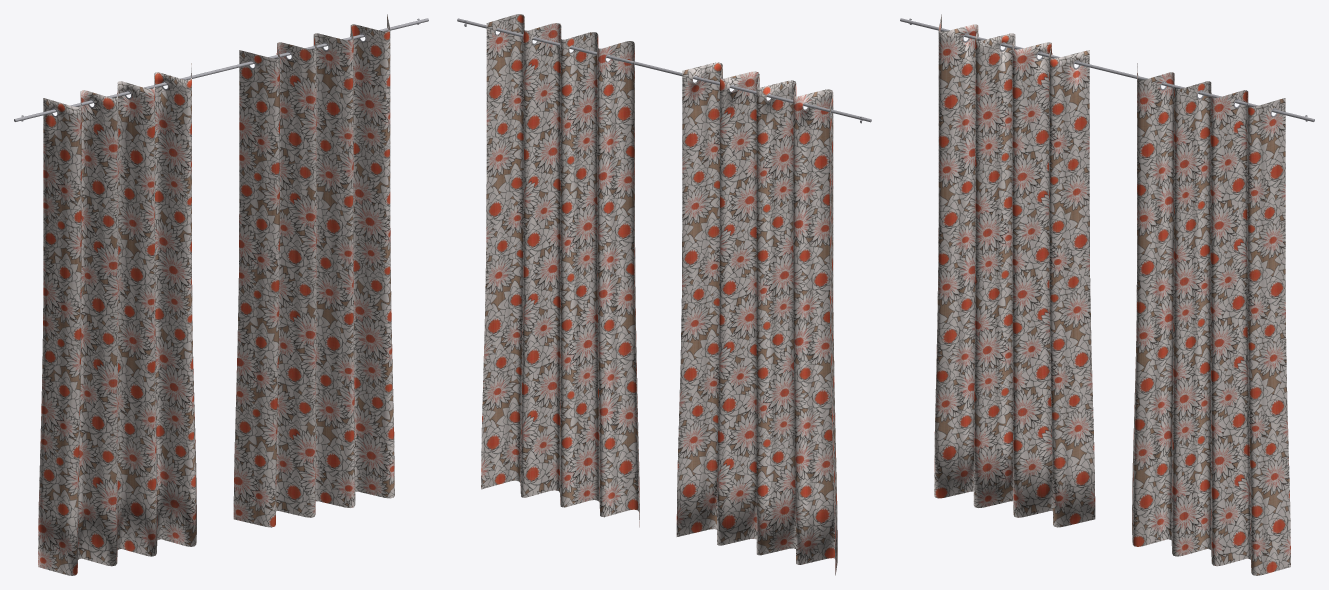
The model's file is Curtainsss.glb.
3 renders of one model, left to right at view 1: azimuth 30°, elevation 25°; view 2: azimuth 150°, elevation 25°; view 3: azimuth 330°, elevation 25°, orthographic.
Parts seen in each view (by area): view 1: curtain 1, curtain 2, Metal; view 2: curtain 2, curtain 1, Metal; view 3: curtain 2, curtain 1, Metal.
Boxes of the visible parts, x1,y1,x2,y2 form: curtain 1: [233, 14, 394, 527]; curtain 2: [38, 63, 196, 575]; Metal: [14, 18, 428, 121]; curtain 2: [676, 62, 837, 575]; curtain 1: [481, 14, 639, 527]; Metal: [457, 18, 871, 123]; curtain 2: [934, 14, 1095, 527]; curtain 1: [1132, 63, 1290, 575]; Metal: [900, 18, 1314, 121].
Size of the model in its own units: 1.85 by 2 by 0.1393.
2 materials, 2 textured.
